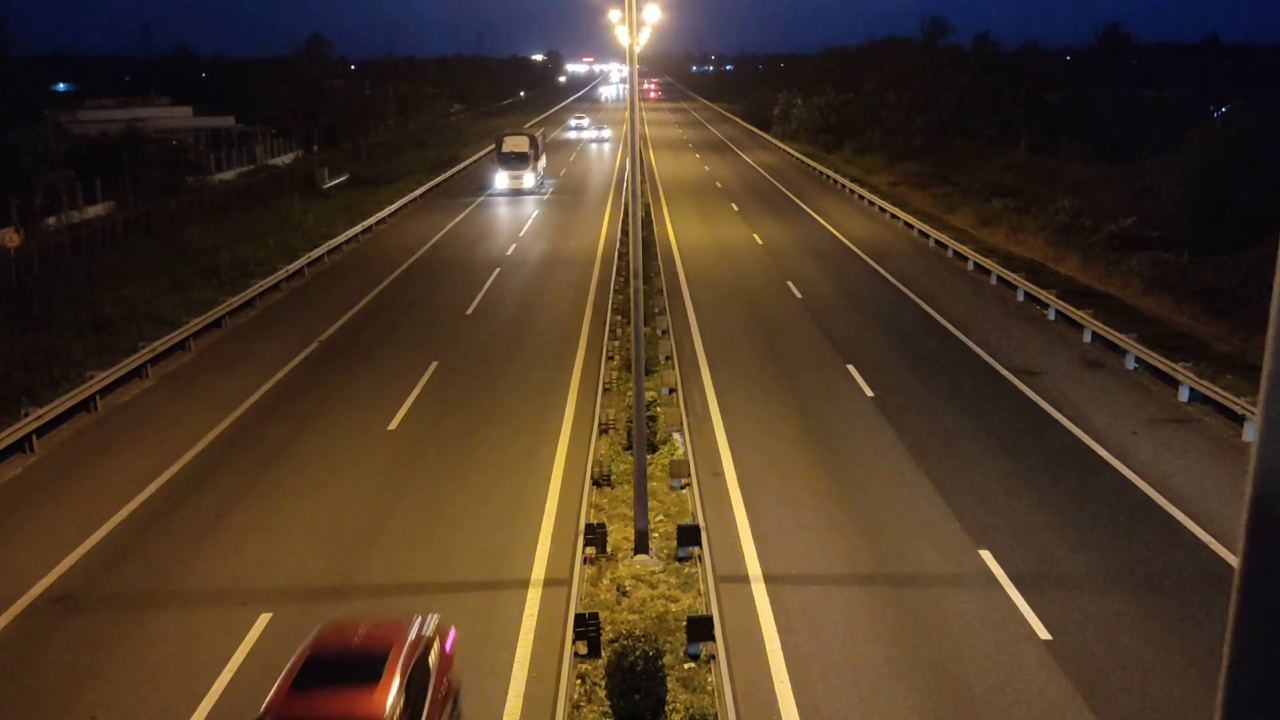car: (255, 613, 459, 719)
truck: (490, 124, 550, 199)
